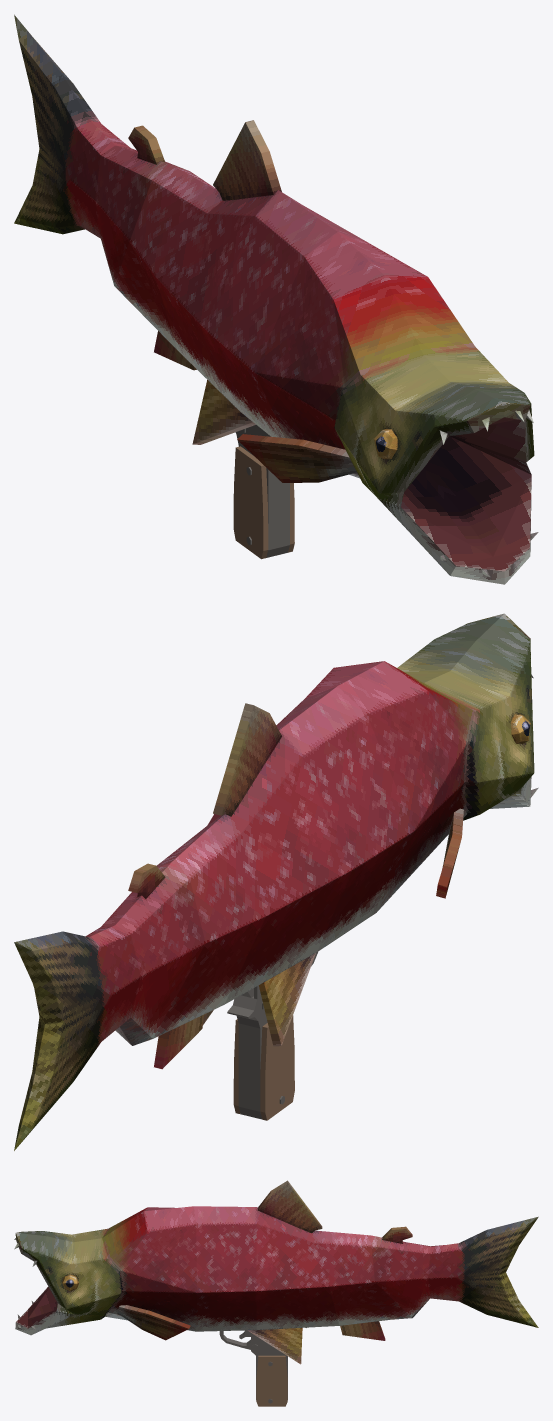
The model's file is item_salmoncannon.glb.
The picture shows the model from 3 angles, top to bottom: view 1: azimuth 30°, elevation 25°; view 2: azimuth 150°, elevation 25°; view 3: azimuth 270°, elevation 25°; orthographic projection. The views are drawn at different scales.
Visible parts, largest first — view 1: fish_salmon; view 2: fish_salmon; view 3: fish_salmon.
Boxes of the visible parts, <box> form: fish_salmon: <box>14,14,538,584</box>; fish_salmon: <box>14,613,538,1150</box>; fish_salmon: <box>14,1180,538,1406</box>.
Size of the model in its own units: 0.2413 by 0.4543 by 0.9786.
Materials: 1 (1 with a texture image).
